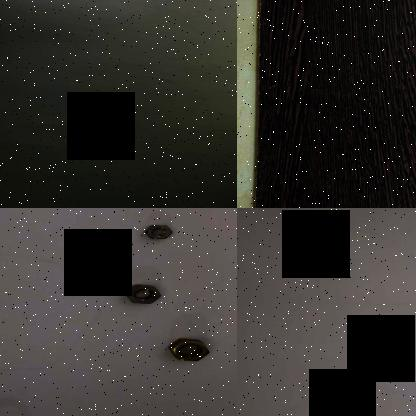NUTS: (110, 280, 180, 316), (152, 335, 216, 366), (127, 220, 188, 246)
